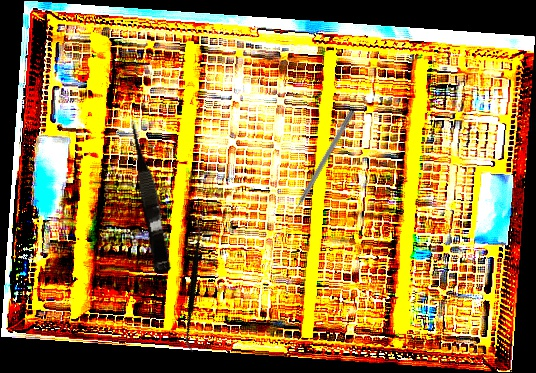Micro Scissor: (124, 115, 176, 276)
Pusher: (285, 108, 356, 223)
Spatula Surgical: (138, 219, 251, 353)
